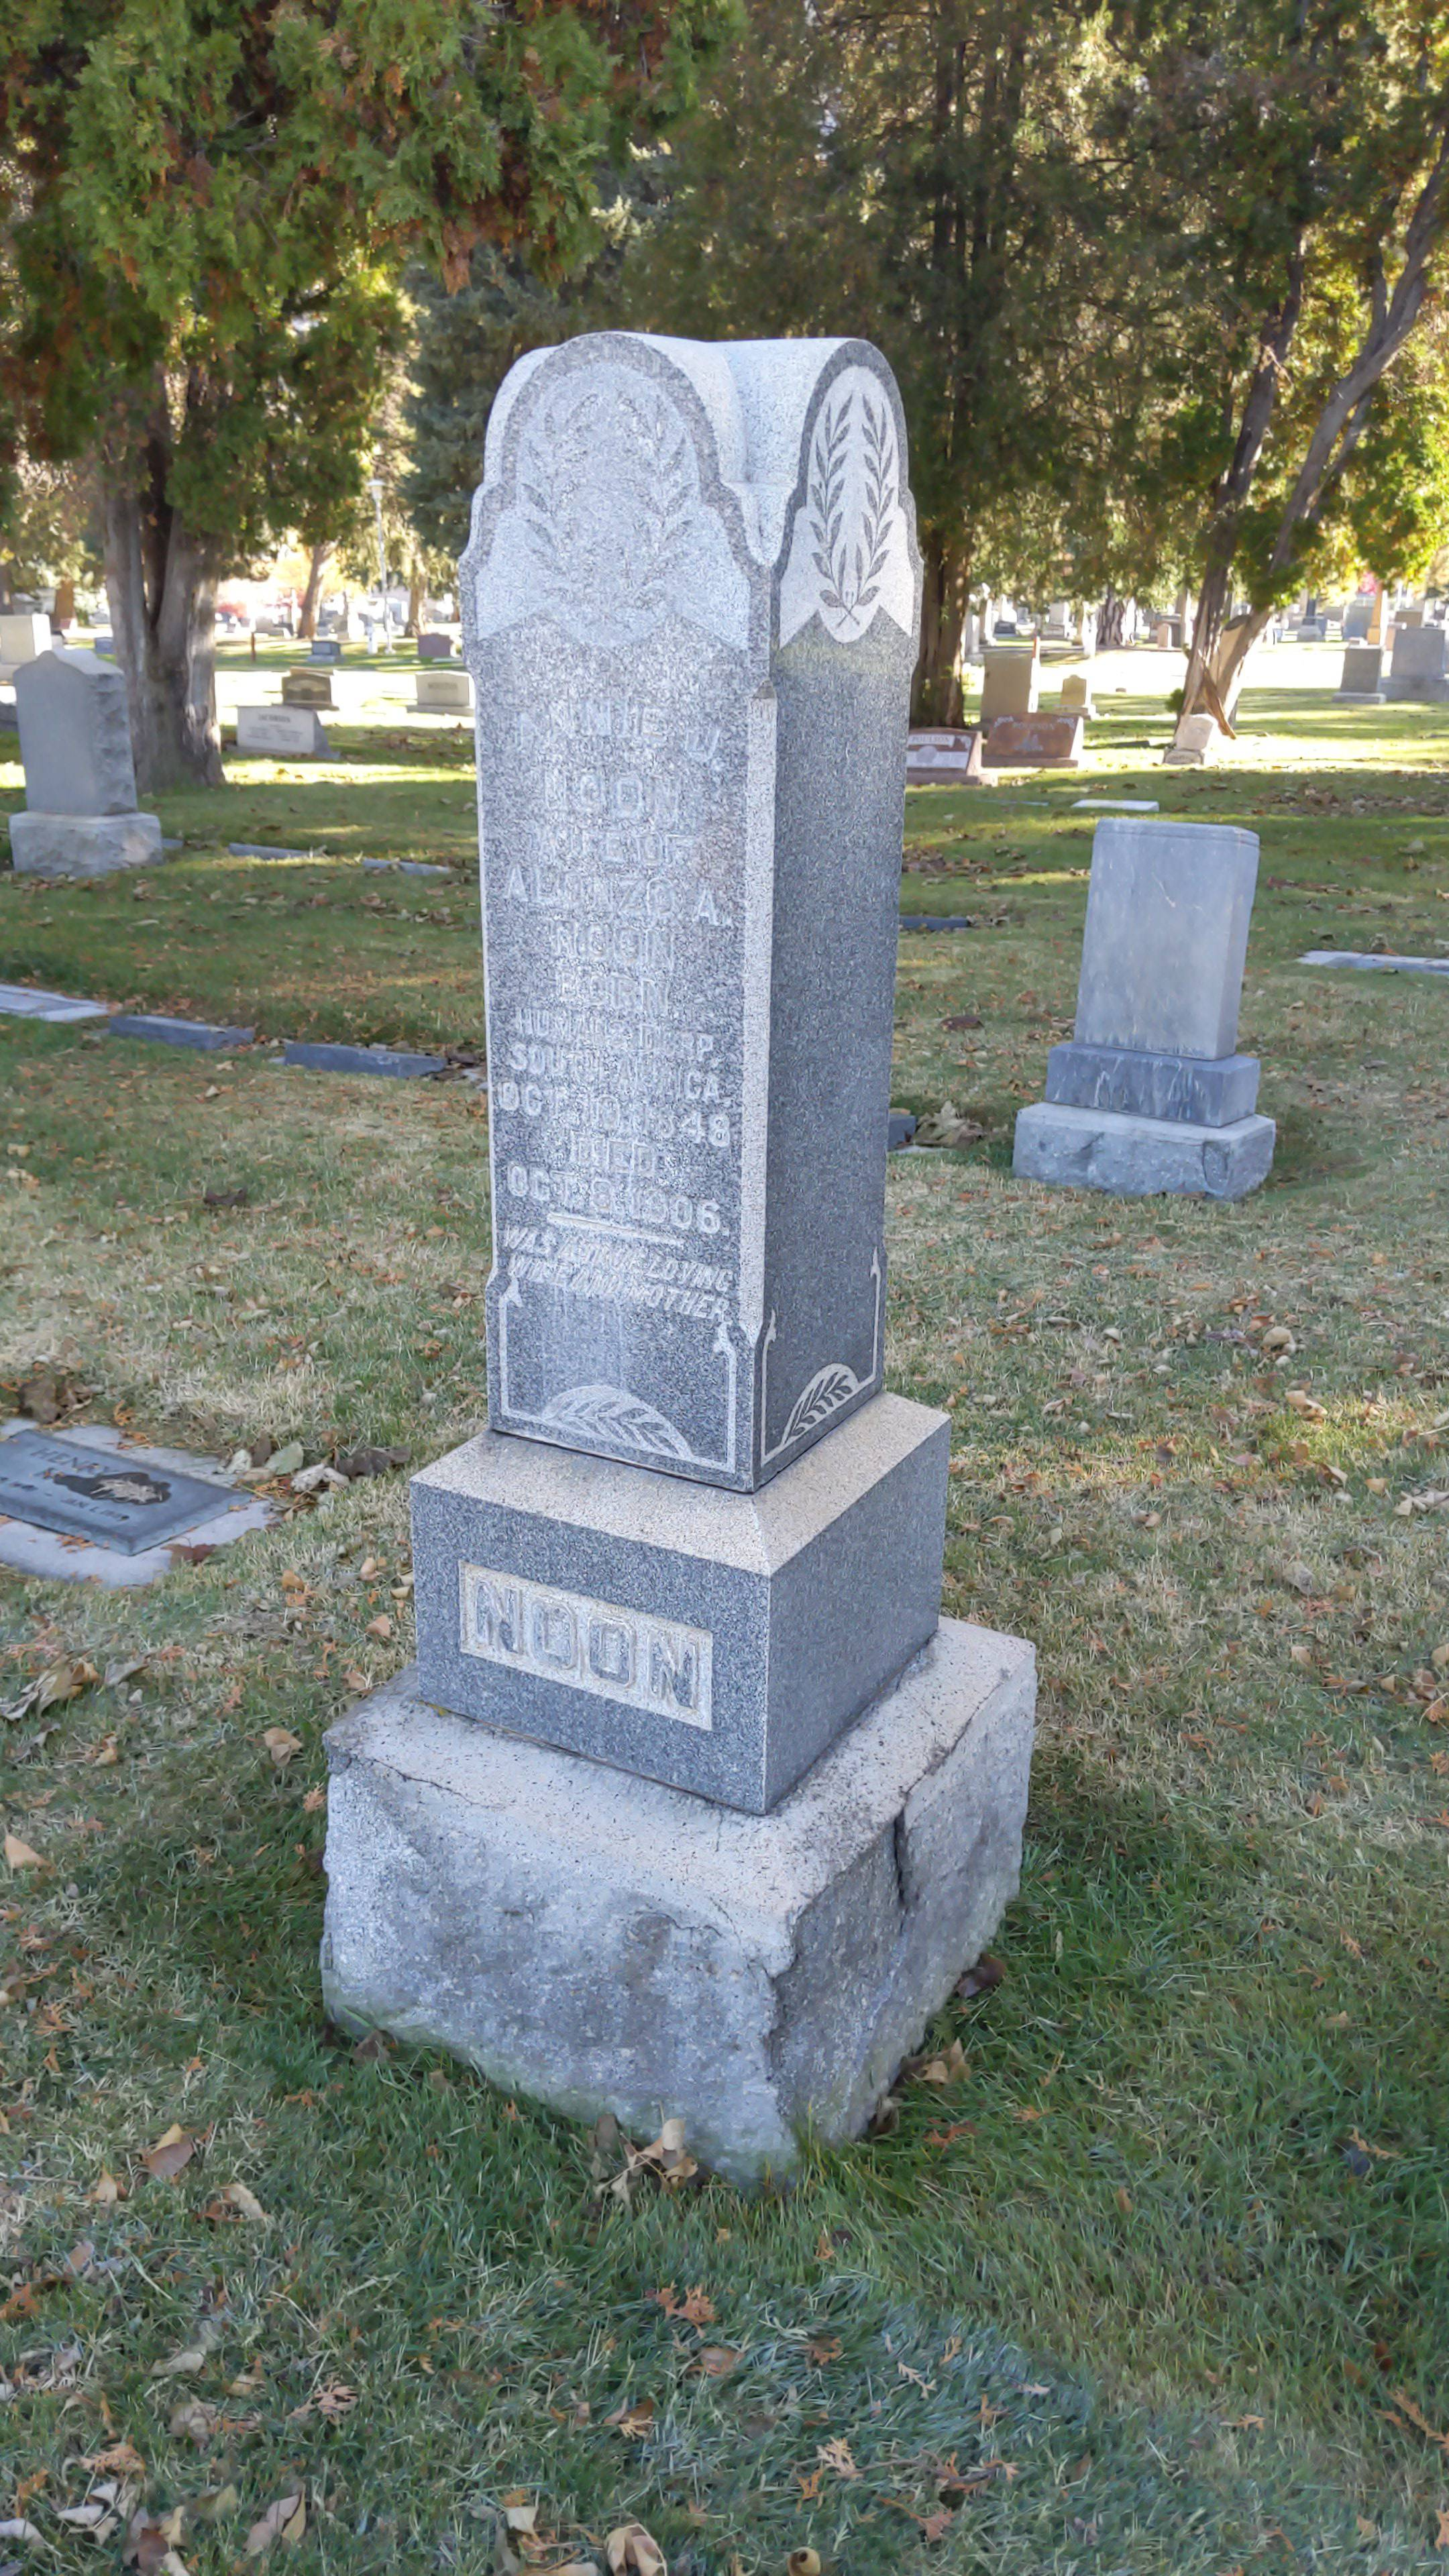obelisk: (412, 340, 943, 1819)
